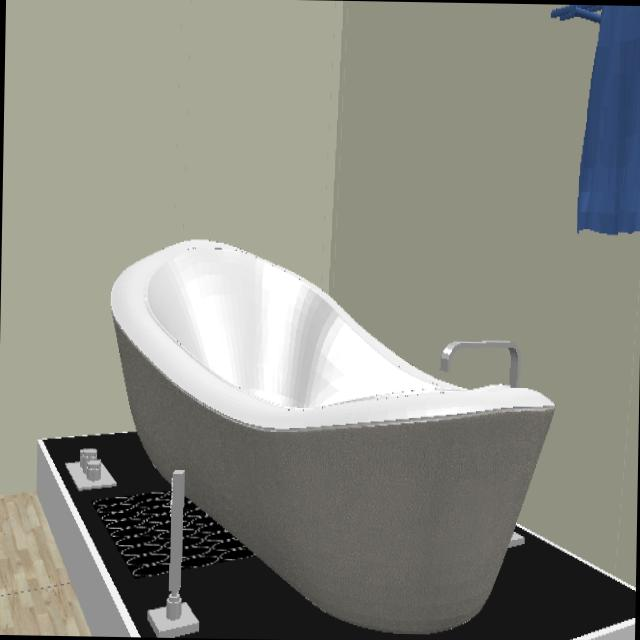bathtube: (109, 239, 555, 635)
